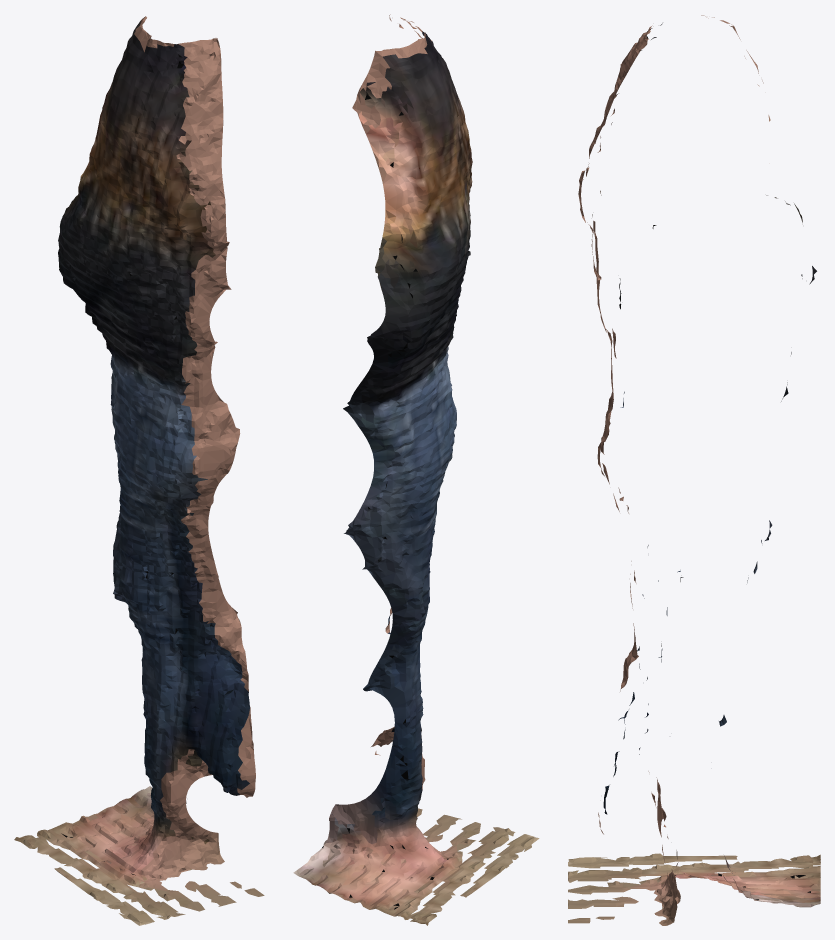
3 renders of one model, left to right at view 1: azimuth 30°, elevation 25°; view 2: azimuth 150°, elevation 25°; view 3: azimuth 270°, elevation 25°, orthographic. The views are drawn at different scales.
Size of the model in its own units: 0.2575 by 1.5 by 0.3919.
1 material, 1 textured.
